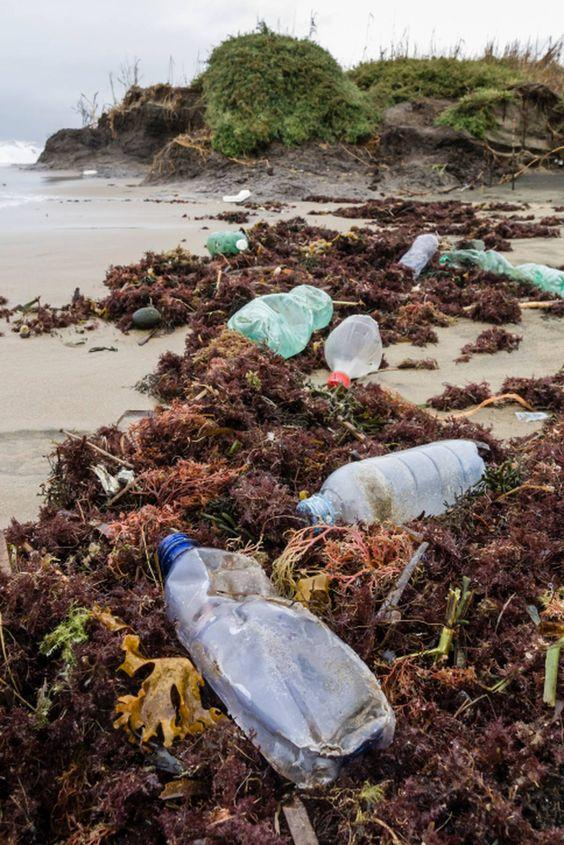HDPE: (323, 372, 352, 390)
LDPE: (226, 284, 334, 358)
PETE: (160, 532, 398, 791), (292, 439, 484, 534), (320, 312, 385, 379), (397, 232, 438, 280)
